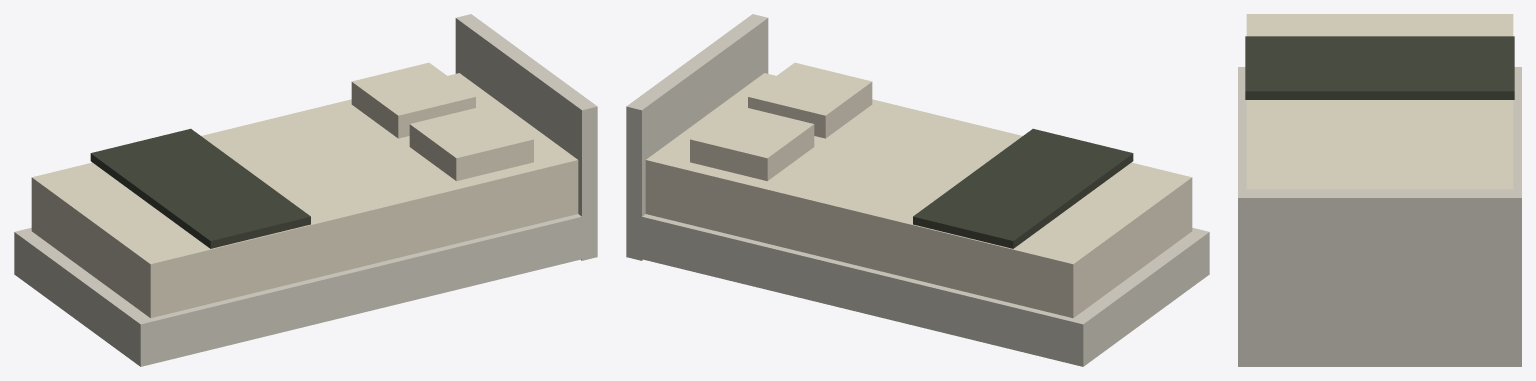
Rendered from bed.glb.
3 views of the same model, side by side, from view 1: azimuth 30°, elevation 25°; view 2: azimuth 150°, elevation 25°; view 3: azimuth 270°, elevation 25° (orthographic). The views are drawn at different scales.
Parts seen in each view (by area): view 1: REF-L03-R01-bed-part-2, REF-L03-R01-bed-part-1, REF-L03-R01-bed-part-6, REF-L03-R01-bed-part-3, REF-L03-R01-bed-part-5, REF-L03-R01-bed-part-4; view 2: REF-L03-R01-bed-part-2, REF-L03-R01-bed-part-1, REF-L03-R01-bed-part-6, REF-L03-R01-bed-part-3, REF-L03-R01-bed-part-4, REF-L03-R01-bed-part-5; view 3: REF-L03-R01-bed-part-3, REF-L03-R01-bed-part-2, REF-L03-R01-bed-part-6, REF-L03-R01-bed-part-4, REF-L03-R01-bed-part-5, REF-L03-R01-bed-part-1.
Boxes of the visible parts, x1,y1,x2,y2 form: REF-L03-R01-bed-part-2: [31, 73, 578, 318]; REF-L03-R01-bed-part-1: [14, 214, 581, 366]; REF-L03-R01-bed-part-6: [90, 128, 310, 248]; REF-L03-R01-bed-part-3: [455, 14, 597, 260]; REF-L03-R01-bed-part-5: [409, 105, 533, 181]; REF-L03-R01-bed-part-4: [351, 62, 475, 138]; REF-L03-R01-bed-part-2: [645, 73, 1192, 318]; REF-L03-R01-bed-part-1: [630, 214, 1209, 366]; REF-L03-R01-bed-part-6: [913, 128, 1133, 248]; REF-L03-R01-bed-part-3: [626, 14, 768, 260]; REF-L03-R01-bed-part-4: [690, 105, 814, 181]; REF-L03-R01-bed-part-5: [748, 62, 872, 138]; REF-L03-R01-bed-part-3: [1238, 189, 1521, 366]; REF-L03-R01-bed-part-2: [1246, 14, 1513, 189]; REF-L03-R01-bed-part-6: [1245, 36, 1514, 99]; REF-L03-R01-bed-part-4: [1392, 157, 1497, 189]; REF-L03-R01-bed-part-5: [1262, 157, 1367, 189]; REF-L03-R01-bed-part-1: [1238, 67, 1521, 189].
Bounding box in the file's own units: 0.7305 × 0.23 × 0.35.
